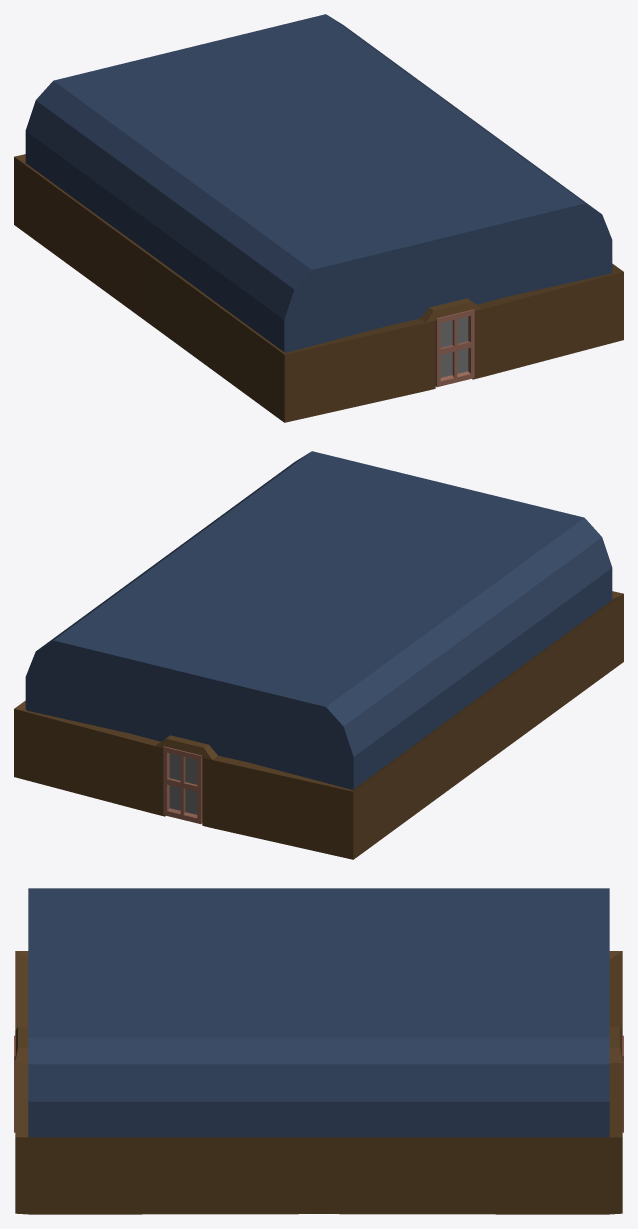
Rendered from trainingRoom.fbx.
The picture shows the model from 3 angles, top to bottom: view 1: azimuth 30°, elevation 25°; view 2: azimuth 150°, elevation 25°; view 3: azimuth 270°, elevation 25°; orthographic projection. The views are drawn at different scales.
Visible parts, largest first — view 1: Plane.001, Cube.001, Cube.002; view 2: Plane.001, Cube.001, Cube; view 3: Plane.001, Cube.001.
Boxes of the visible parts, x1,y1,x2,y2 form: Plane.001: (25, 14, 612, 352); Cube.001: (14, 154, 623, 422); Cube.002: (435, 309, 474, 387); Plane.001: (25, 451, 612, 789); Cube.001: (14, 591, 623, 859); Cube: (163, 746, 202, 824); Plane.001: (28, 888, 609, 1137); Cube.001: (15, 951, 622, 1214).
Bounding box in the file's own units: 1041 × 428 × 1443.
